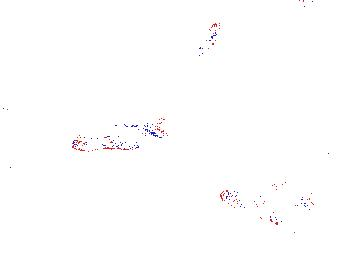red belly glassfish: (200, 20, 220, 51)
redtail glassfish: (69, 114, 162, 153), (222, 184, 312, 213)
